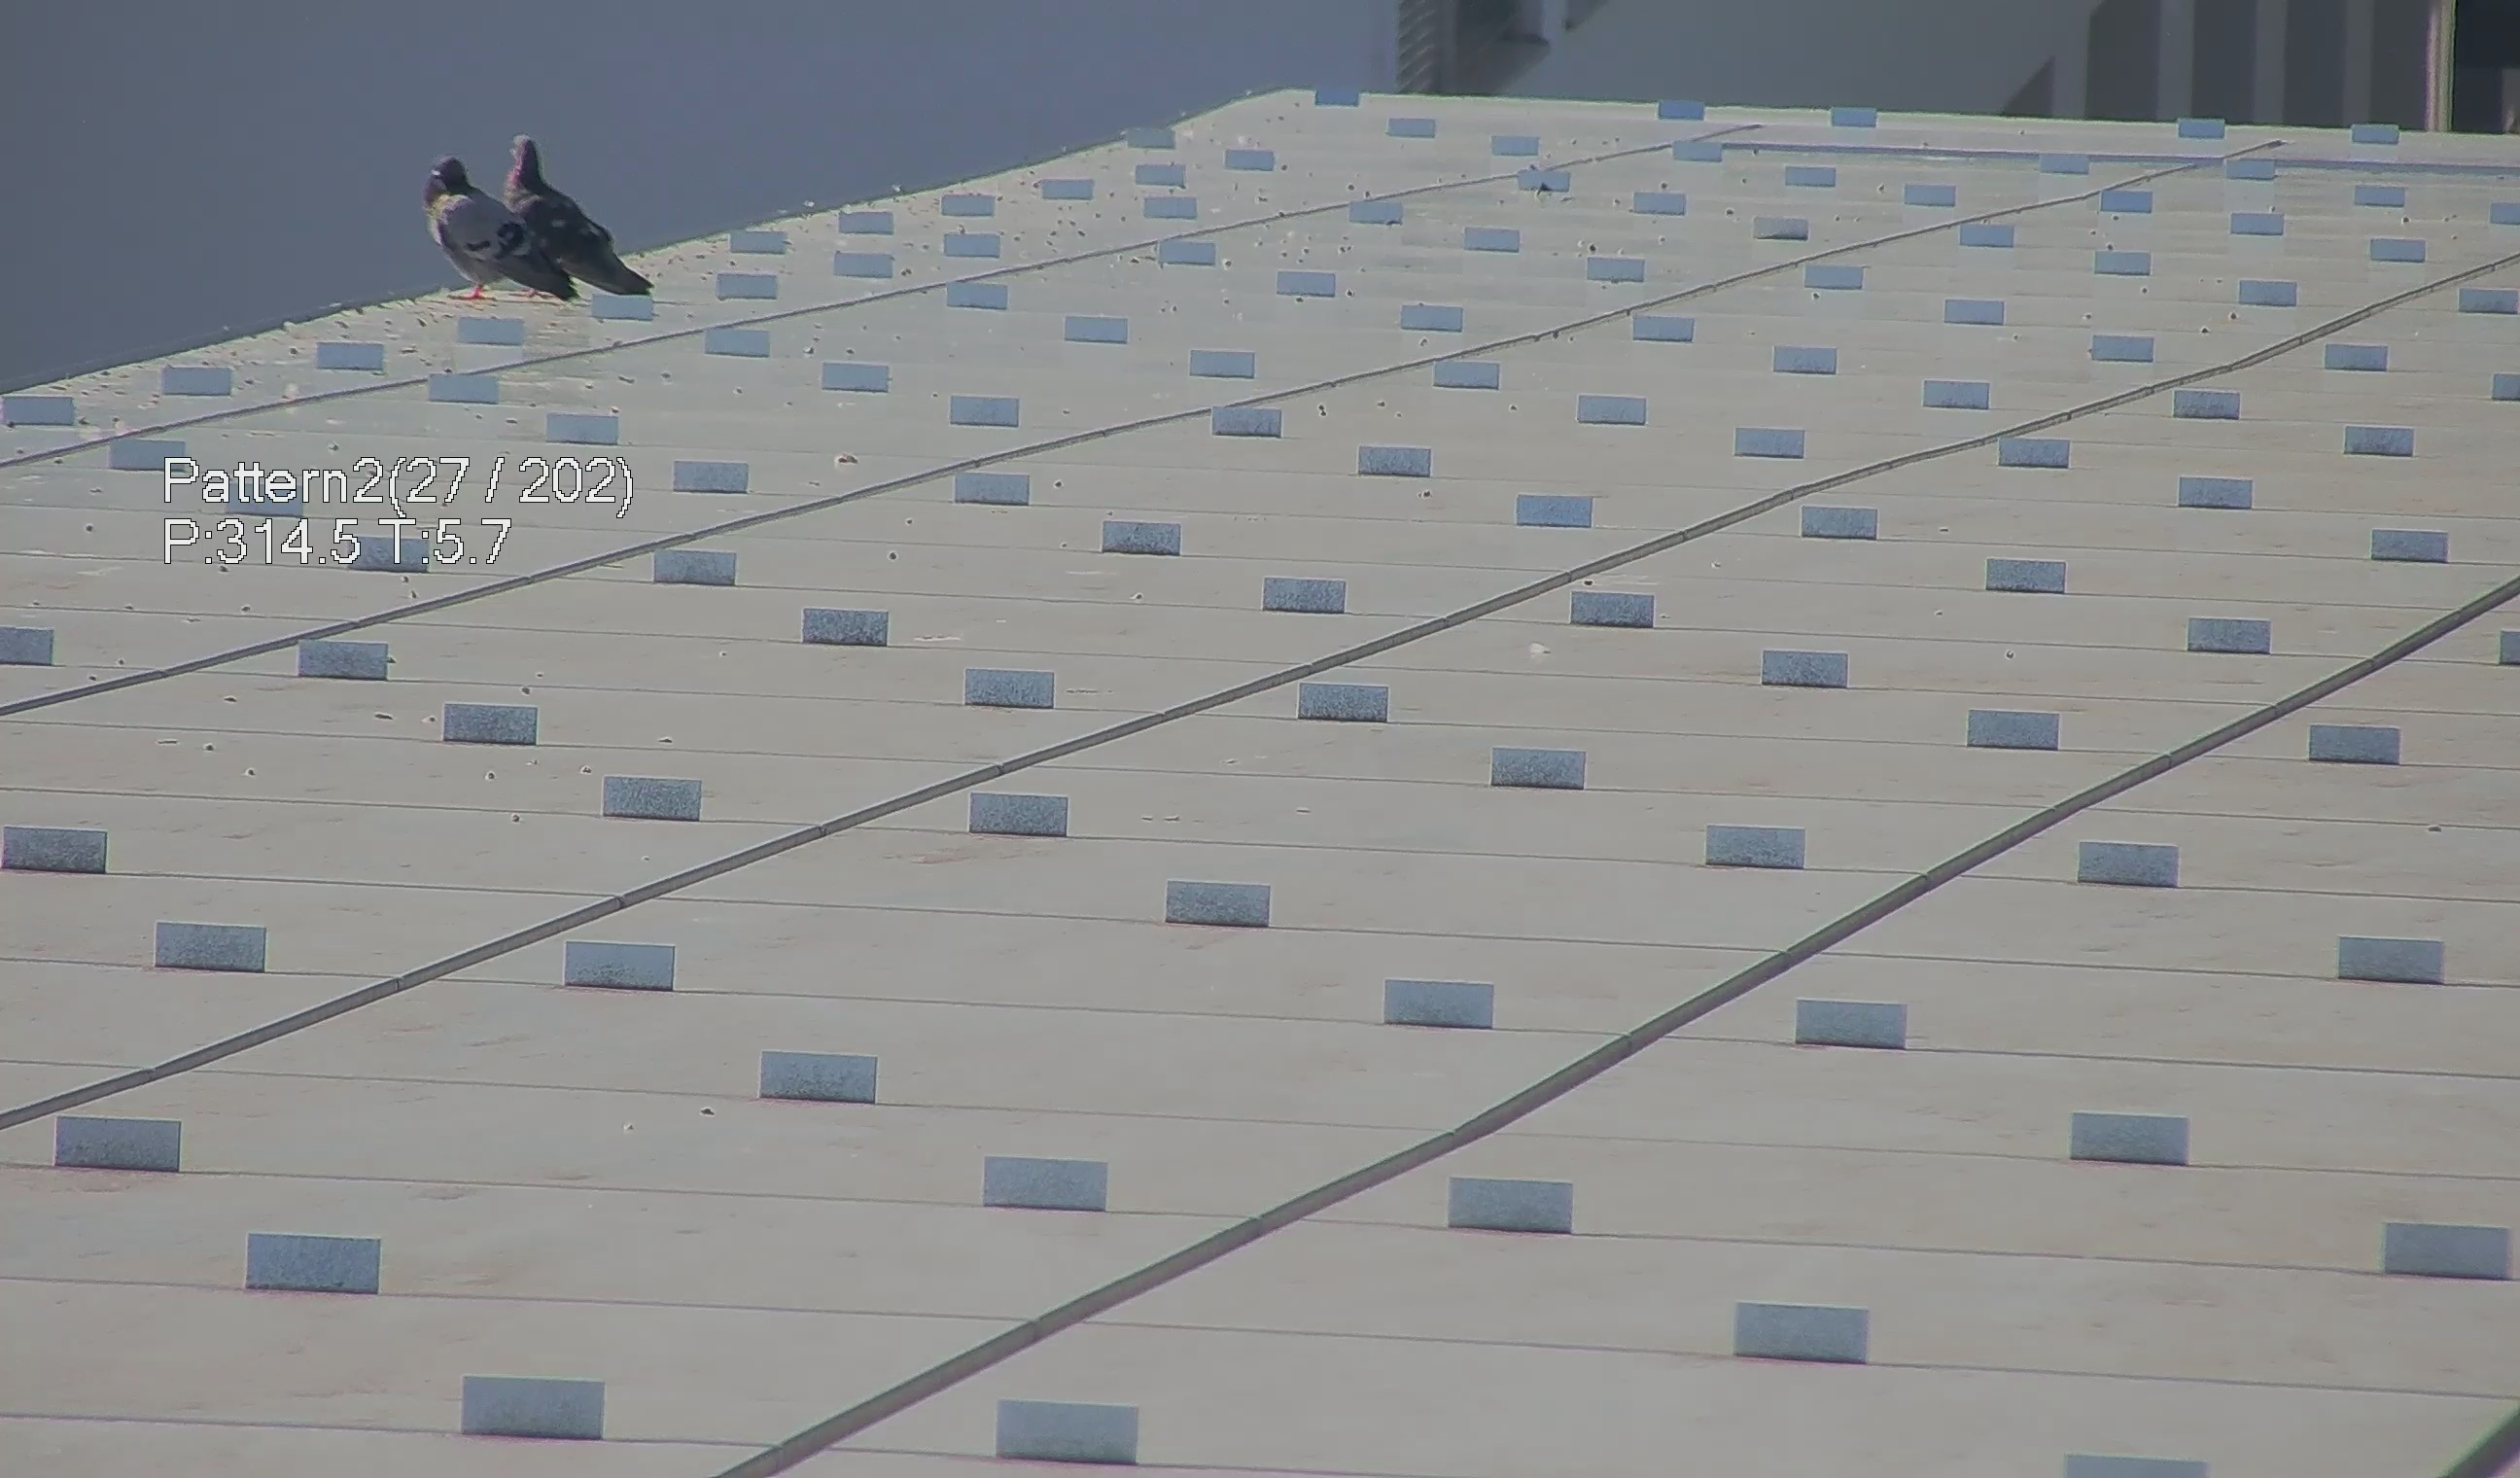Pigeon: (478, 128, 635, 306), (397, 144, 557, 301)
